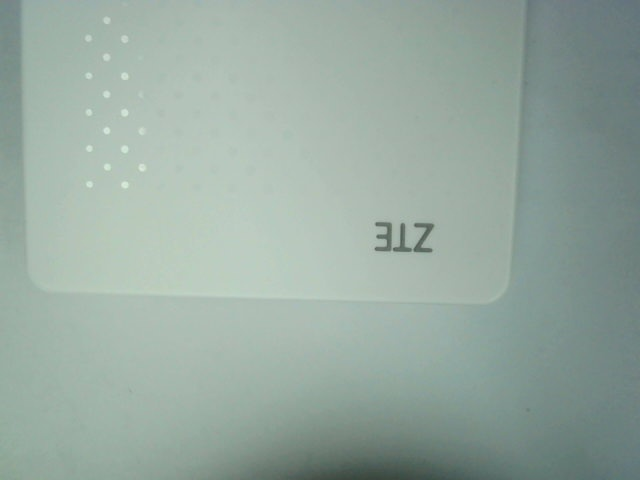AN_ZTE: (368, 214, 437, 258)
